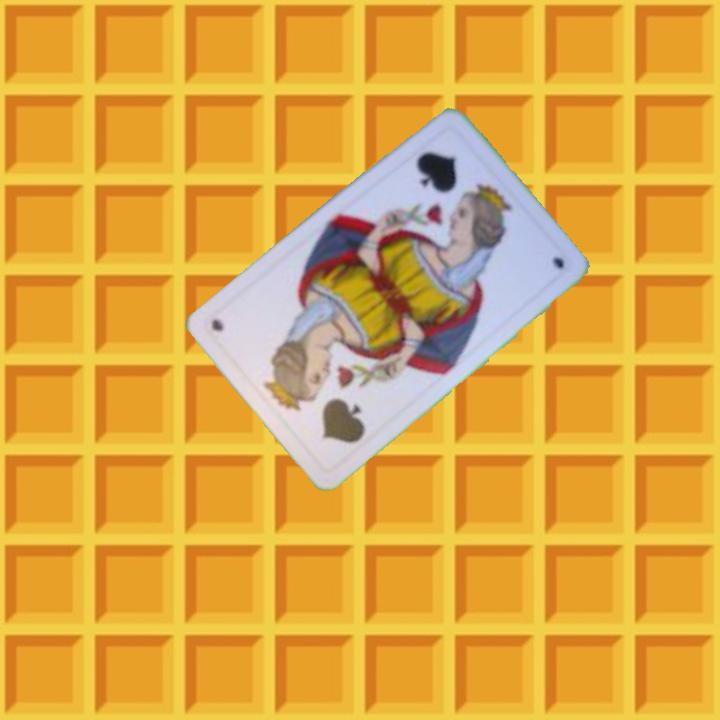s_q.png: (263, 344, 391, 474), (385, 121, 512, 250)
